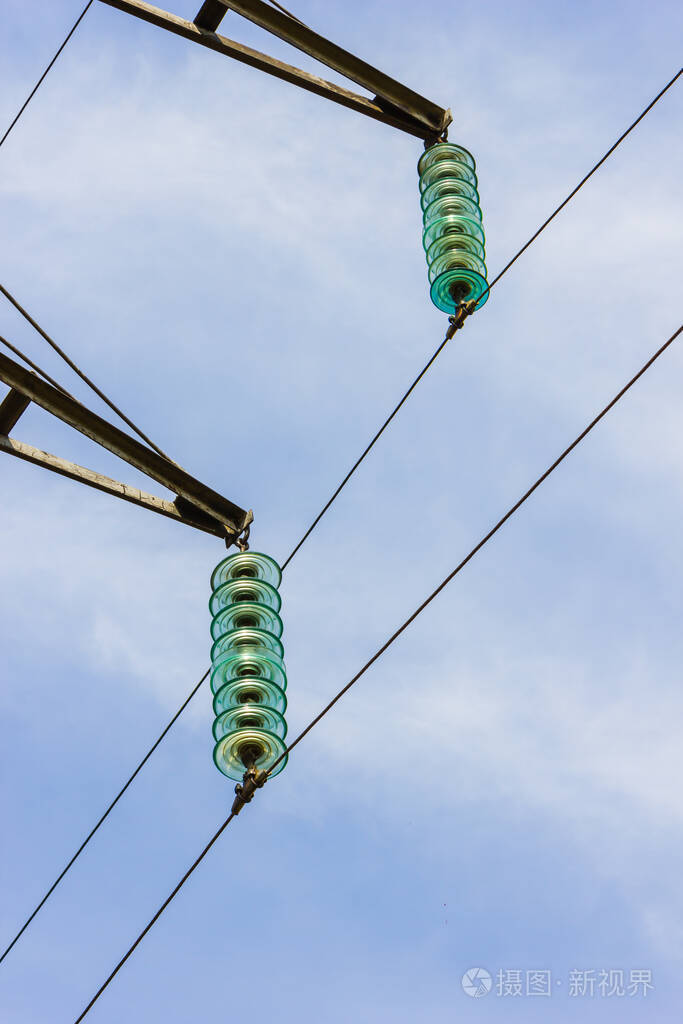insulator: (207, 548, 292, 781), (417, 139, 492, 317)
